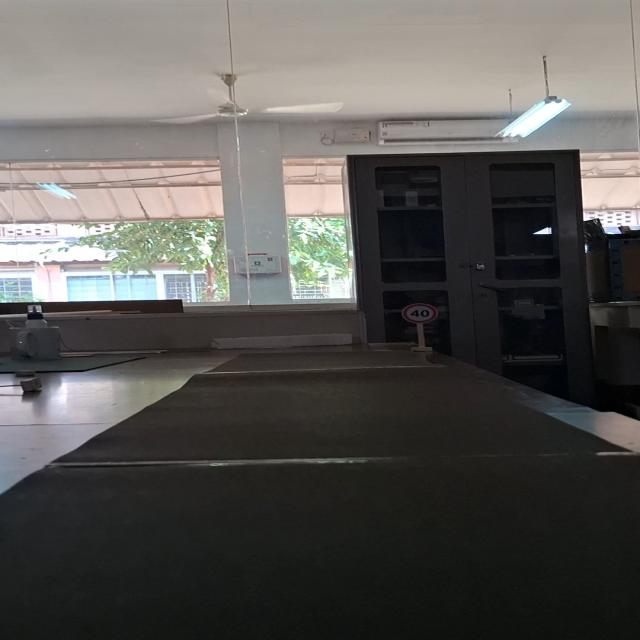Speed40: (400, 302, 440, 325)
